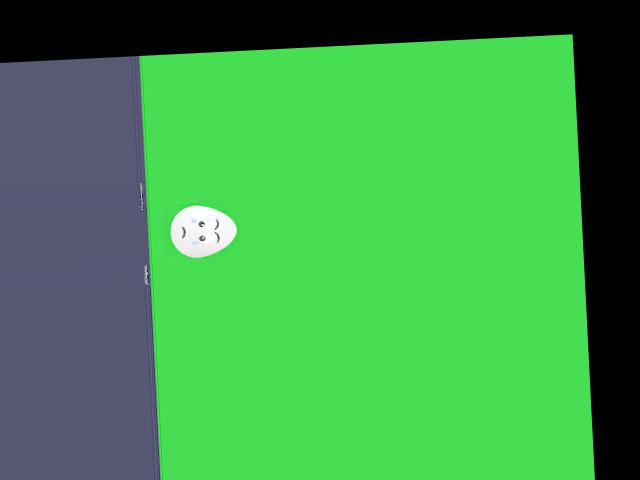egg: (169, 203, 237, 258)
